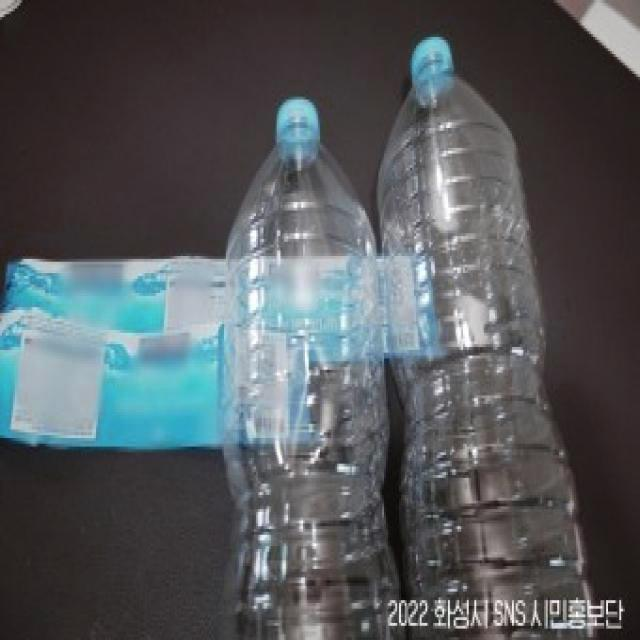bottle: (375, 34, 597, 640), (224, 96, 399, 640)
